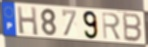7: (61, 8, 78, 38)
8: (40, 8, 58, 37)
9: (82, 10, 100, 41)
B: (123, 12, 143, 43)
H: (16, 5, 40, 37)
R: (101, 12, 122, 41)
